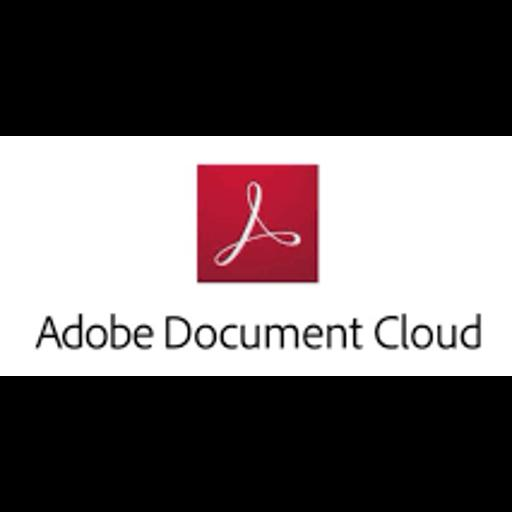Adobe: (0, 136, 512, 376)
